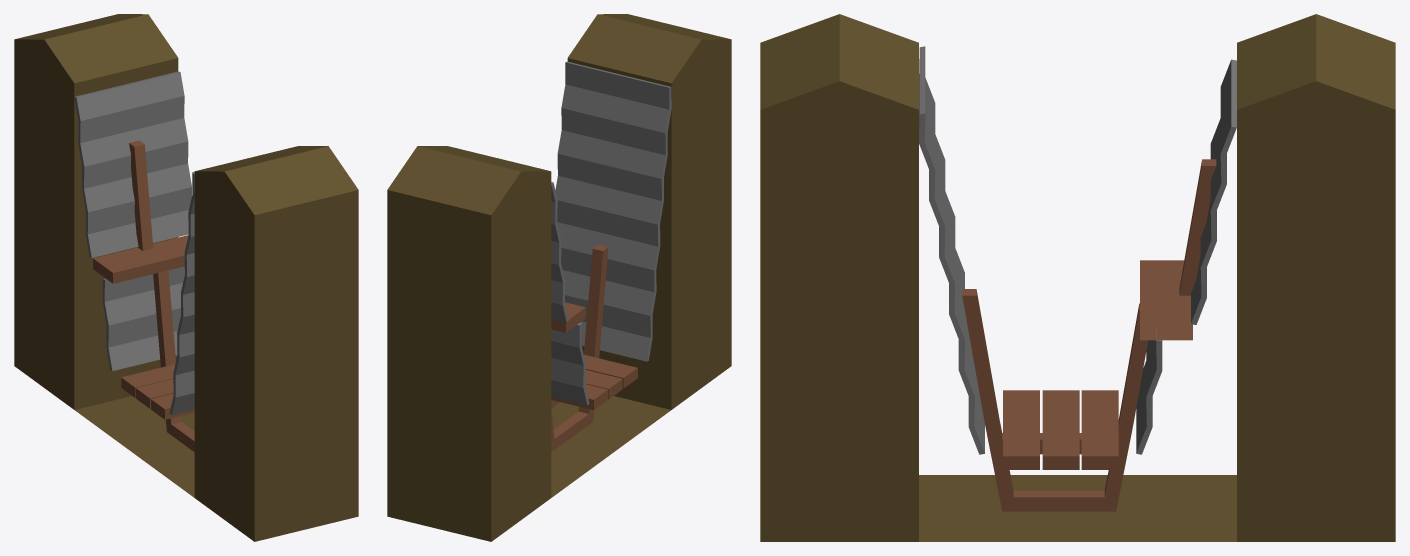
File: Trench Straight Half.fbx
3 renders of one model, left to right at view 1: azimuth 30°, elevation 25°; view 2: azimuth 150°, elevation 25°; view 3: azimuth 270°, elevation 25°, orthographic. The views are drawn at different scales.
Parts seen in each view (by area): view 1: Trench Dirt Straight Half, Trench Straight Half; view 2: Trench Dirt Straight Half, Trench Straight Half; view 3: Trench Dirt Straight Half, Trench Straight Half.
Part boxes in pixels (<box>): Trench Dirt Straight Half: <box>14,14,358,541</box>; Trench Straight Half: <box>74,71,194,451</box>; Trench Dirt Straight Half: <box>387,14,731,541</box>; Trench Straight Half: <box>551,61,671,451</box>; Trench Dirt Straight Half: <box>760,14,1395,541</box>; Trench Straight Half: <box>919,46,1236,511</box>.
Size of the model in its own units: 500 by 1600 by 2000.
